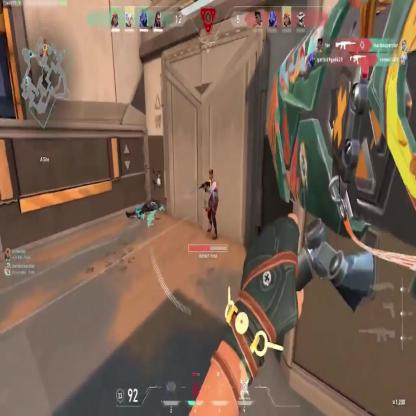enemy: (206, 167, 220, 240)
enemy_head: (208, 168, 214, 181)
